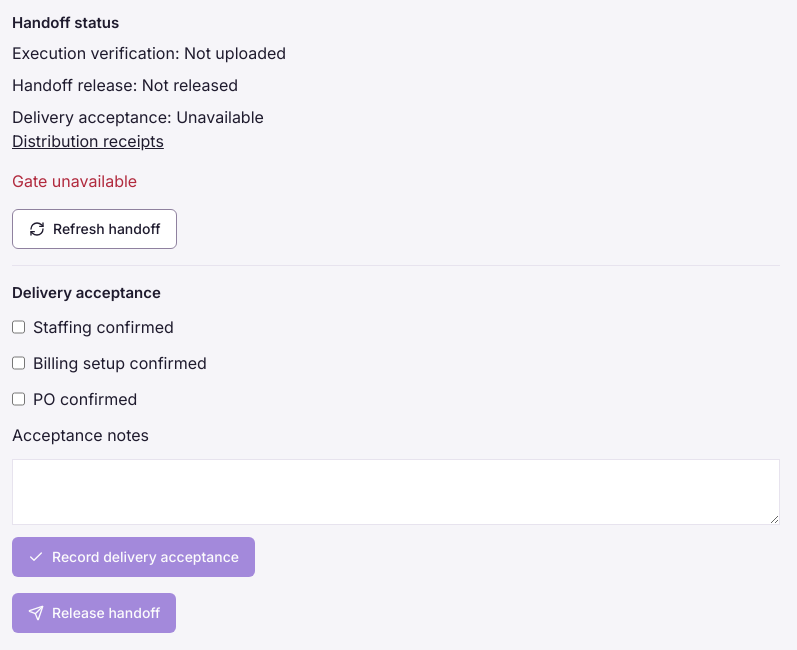
Test case: workspace real execution actions › reports gate fetch failure and cannot release from unknown state
Expected: the message reads "Gate unavailable", [12,171,137,191]
Expected: the text "Unavailable" is shown, [176,107,264,127]
Step 1. Click the button "Refresh handoff" → (95, 229), box [12,209,178,249]
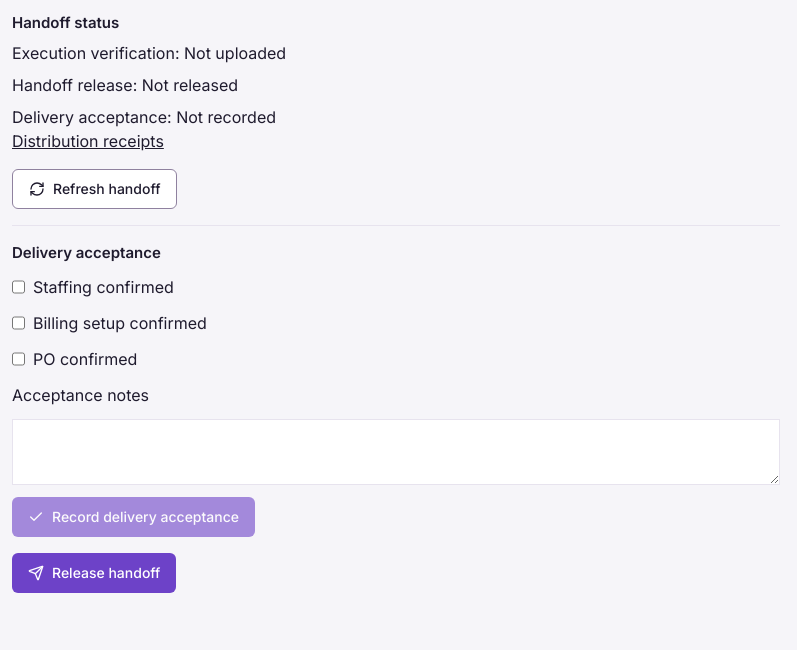
Expected: the button "Release handoff" is enabled, [12,553,176,593]
